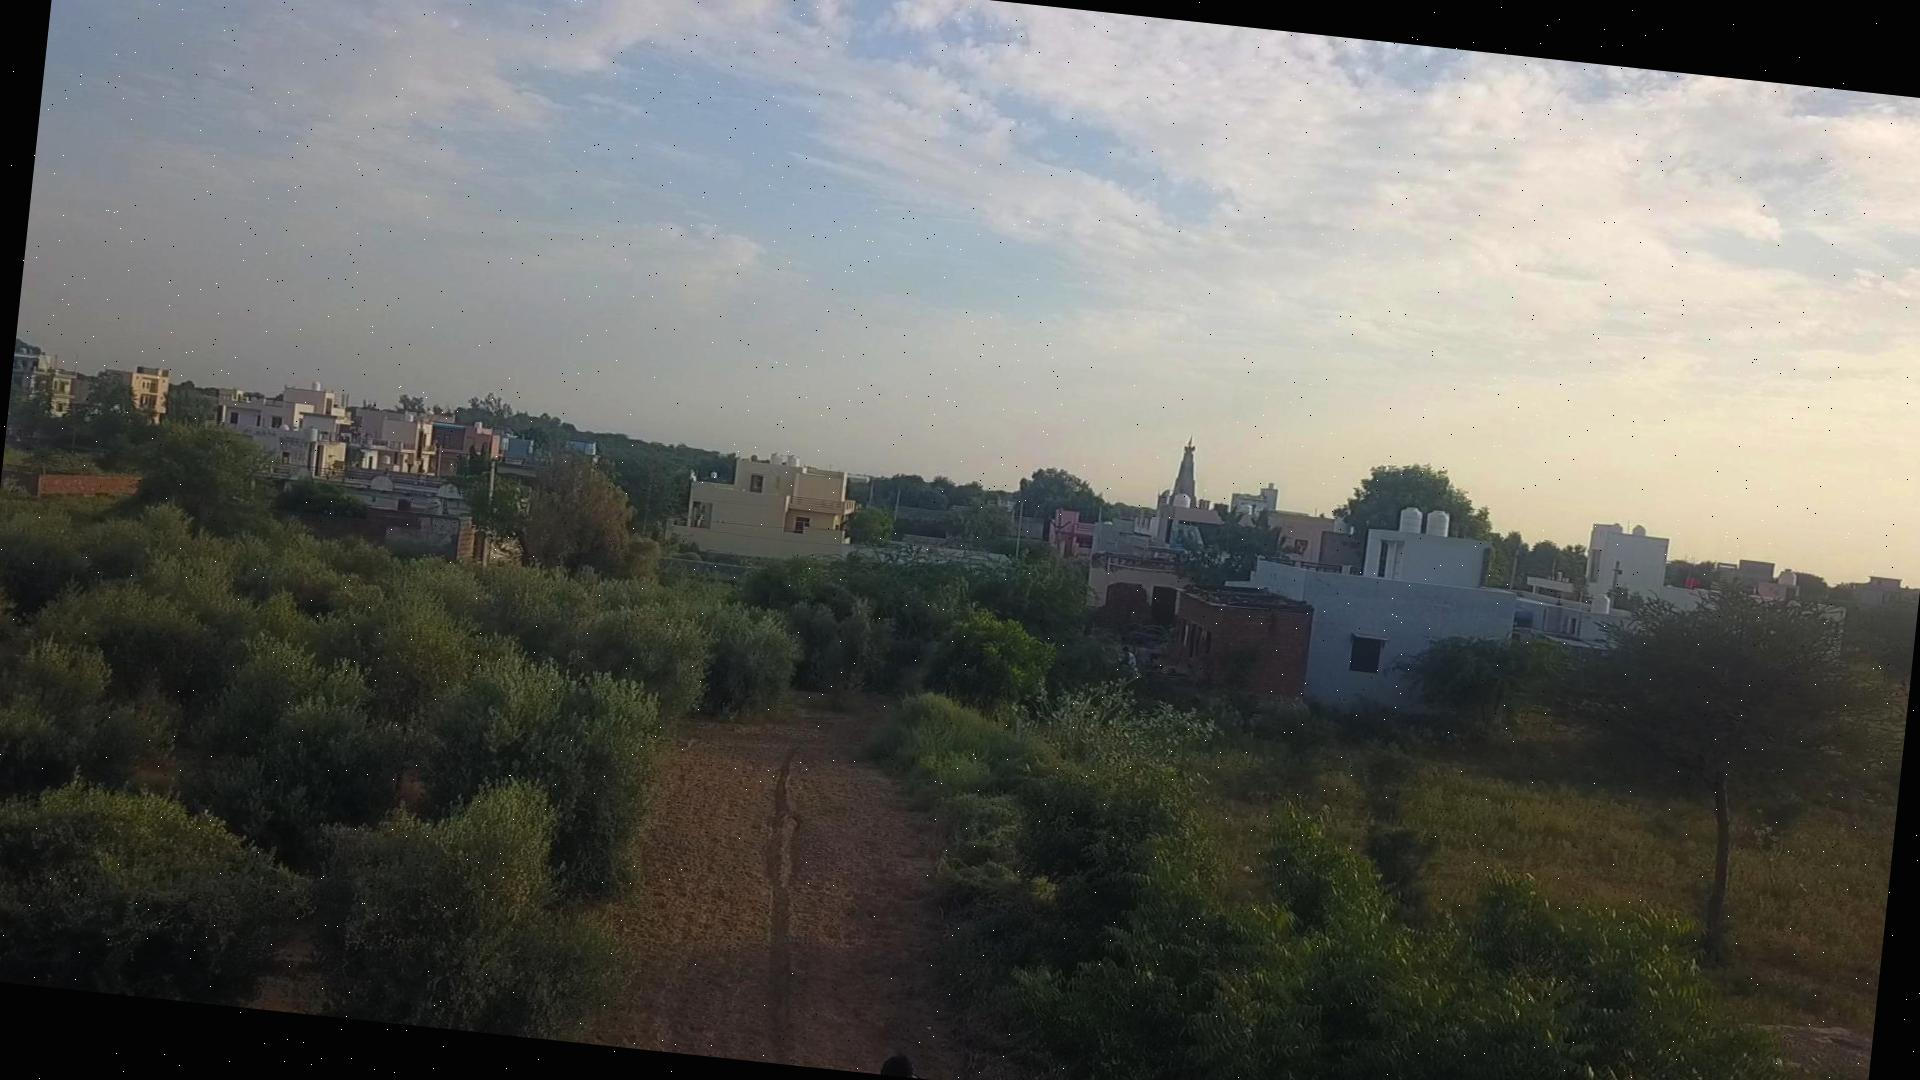canopy: (0, 498, 795, 1036), (868, 688, 1791, 1080)
road: (570, 694, 969, 1080)
